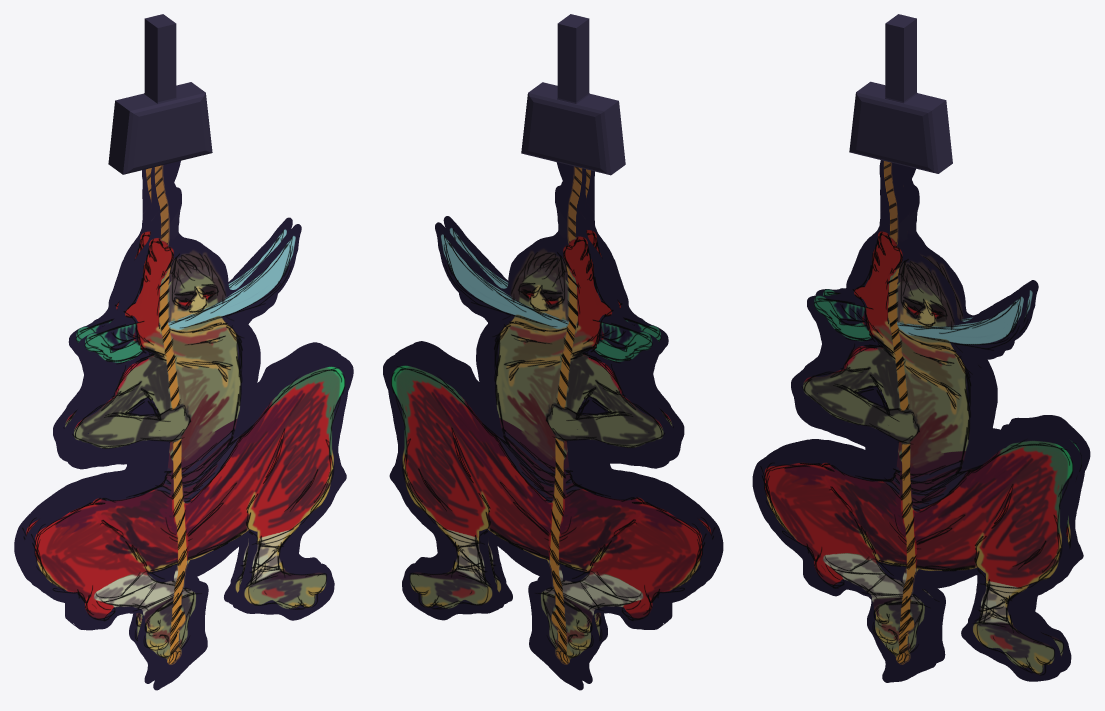
The model's file is Assasin.fbx.
3 views of the same model, side by side, from view 1: azimuth 30°, elevation 25°; view 2: azimuth 150°, elevation 25°; view 3: azimuth 330°, elevation 25° (orthographic).
Parts seen in each view (by area): view 1: Assasin, AssasinHolder; view 2: Assasin, AssasinHolder; view 3: Assasin, AssasinHolder.
Part boxes in pixels (<box>): Assasin: <box>14,161,353,690</box>; AssasinHolder: <box>108,14,212,174</box>; Assasin: <box>383,162,723,690</box>; AssasinHolder: <box>521,14,625,175</box>; Assasin: <box>752,160,1090,682</box>; AssasinHolder: <box>849,14,952,173</box>.
Bounding box in the file's own units: 558 × 1067 × 53.34.
